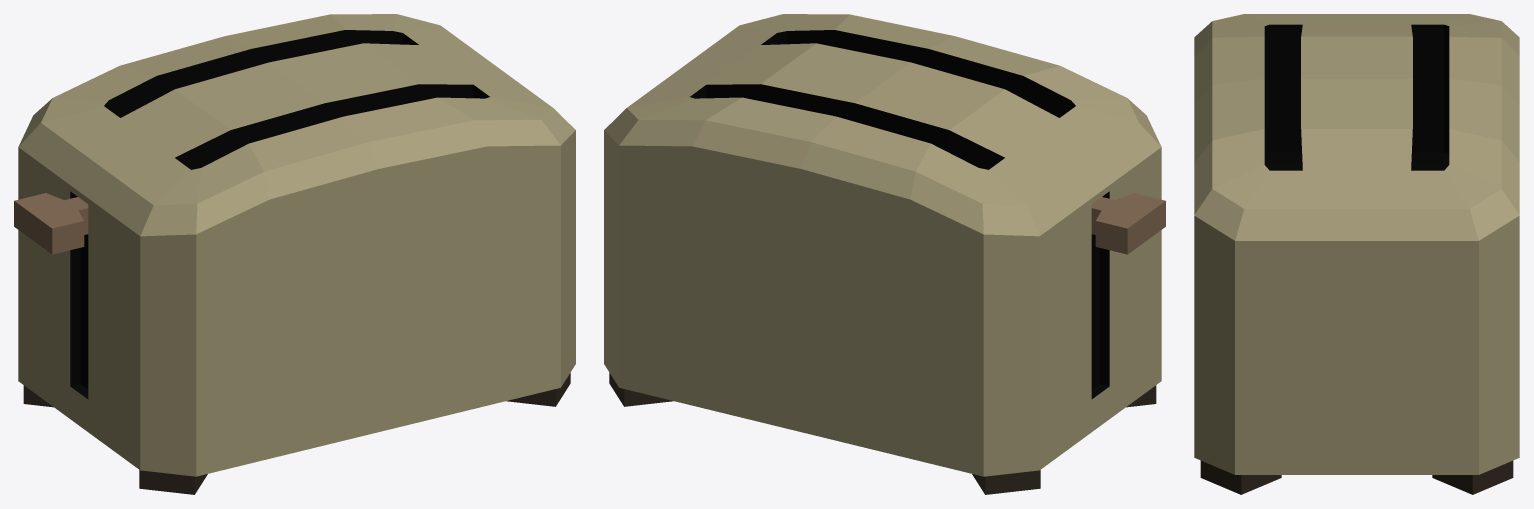
File: toaster.glb
3 views of the same model, side by side, from view 1: azimuth 30°, elevation 25°; view 2: azimuth 150°, elevation 25°; view 3: azimuth 270°, elevation 25° (orthographic).
Parts seen in each view (by area): view 1: Cube; view 2: Cube; view 3: Cube.
Part boxes in pixels (left/top/right/bottom): Cube: left=14, top=14, right=575, bottom=494; Cube: left=604, top=14, right=1165, bottom=494; Cube: left=1194, top=14, right=1519, bottom=494.
Size of the model in its own units: 12.01 by 7.41 by 7.03.
